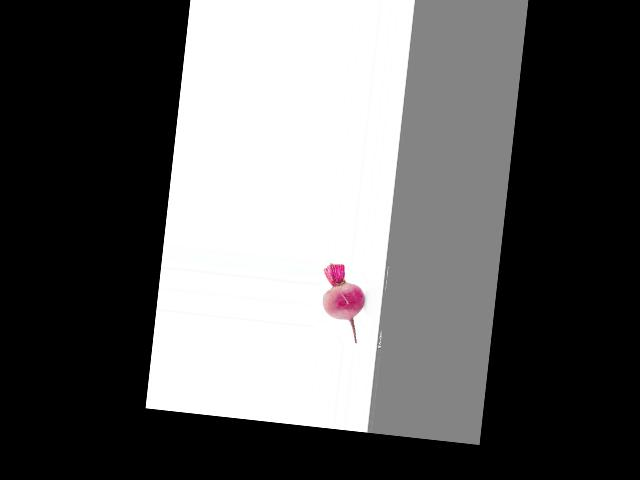beet: (316, 262, 368, 343)
